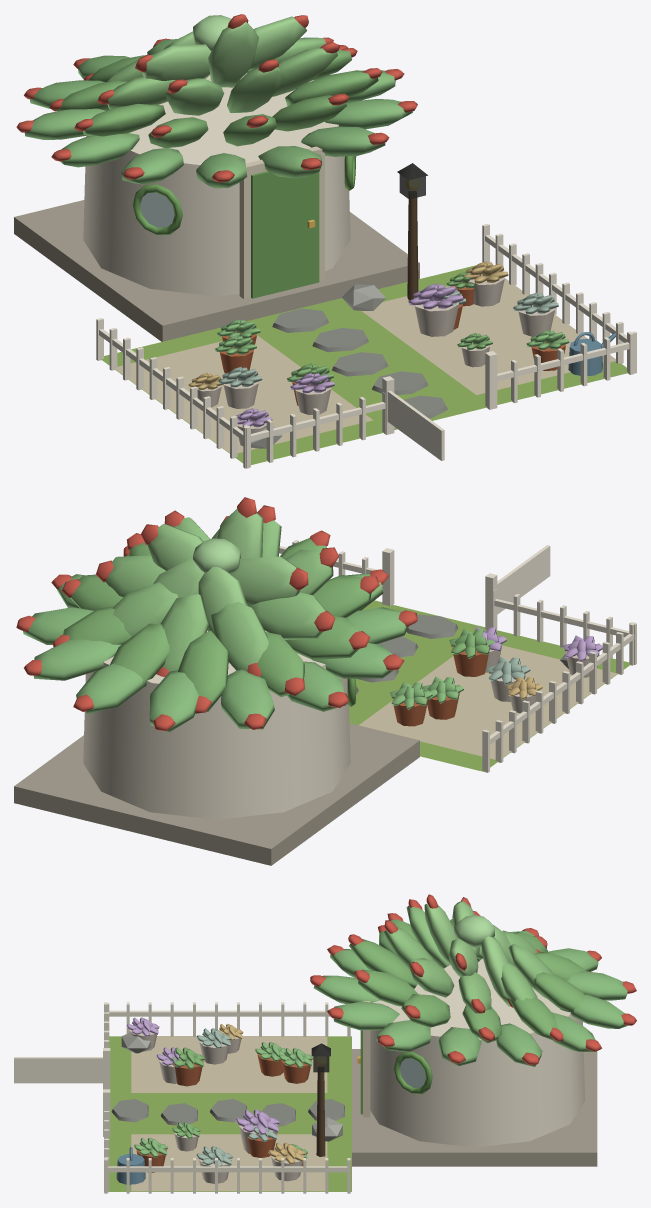
Rendered from shed_succulent.glb.
3 renders of one model, top to bottom at view 1: azimuth 30°, elevation 25°; view 2: azimuth 150°, elevation 25°; view 3: azimuth 270°, elevation 25°, orthographic. The views are drawn at different scales.
Parts seen in each view (by area): view 1: Succulent_Shed_m1, Succulent_Yard_m17, Succulent_Yard_m19, Succulent_Shed_m0, Succulent_Yard_m16, Succulent_Roof_m2, Succulent_Roof_m4, Succulent_Door_m9, Succulent_Roof_m5, Succulent_Roof_m6, Succulent_Yard_m23, Succulent_Yard_m18 (+14 smaller); view 2: Succulent_Shed_m1, Succulent_Shed_m0, Succulent_Roof_m2, Succulent_Roof_m4, Succulent_Roof_m5, Succulent_Yard_m17, Succulent_Yard_m19, Succulent_Roof_m6, Succulent_Roof_m3, Succulent_Yard_m16, Succulent_Yard_m20, Succulent_Yard_m18 (+7 smaller); view 3: Succulent_Shed_m1, Succulent_Yard_m19, Succulent_Roof_m2, Succulent_Yard_m16, Succulent_Shed_m0, Succulent_Yard_m17, Succulent_Roof_m4, Succulent_Roof_m5, Succulent_Roof_m6, Succulent_Roof_m3, Succulent_Yard_m18, Succulent_Yard_m23 (+13 smaller).
Part boxes in pixels (x1,y1,x2,y2): Succulent_Shed_m1: (83,73,350,296); Succulent_Yard_m17: (96,223,636,468); Succulent_Yard_m19: (114,278,615,453); Succulent_Shed_m0: (14,200,419,341); Succulent_Yard_m16: (101,265,627,464); Succulent_Roof_m2: (24,39,412,188); Succulent_Roof_m4: (56,49,378,147); Succulent_Door_m9: (251,171,319,298); Succulent_Roof_m5: (107,37,337,115); Succulent_Roof_m6: (142,16,306,87); Succulent_Yard_m23: (197,274,554,445); Succulent_Yard_m18: (272,308,447,418); Succulent_Shed_m1: (83,604,350,819); Succulent_Shed_m0: (14,723,419,865); Succulent_Roof_m2: (23,554,408,732); Succulent_Roof_m4: (63,529,371,711); Succulent_Roof_m5: (105,517,333,671); Succulent_Yard_m17: (279,540,636,772); Succulent_Yard_m19: (359,645,617,759); Succulent_Roof_m6: (147,508,300,634); Succulent_Roof_m3: (16,497,417,730); Succulent_Yard_m16: (349,600,630,771); Succulent_Yard_m20: (392,646,489,726); Succulent_Yard_m18: (356,614,457,695); Succulent_Shed_m1: (370,958,584,1147); Succulent_Yard_m19: (131,1036,327,1191); Succulent_Roof_m2: (313,930,628,1066); Succulent_Yard_m16: (108,1036,351,1191); Succulent_Shed_m0: (352,1049,597,1166); Succulent_Yard_m17: (14,1002,350,1193); Succulent_Roof_m4: (349,919,585,1043); Succulent_Roof_m5: (384,905,553,1013); Succulent_Roof_m6: (424,901,515,1006); Succulent_Roof_m3: (310,894,636,1065); Succulent_Yard_m18: (111,1099,344,1126); Succulent_Yard_m23: (129,1028,304,1183).
Bounding box in the file's own units: 6.09 × 3.9 × 10.15.
